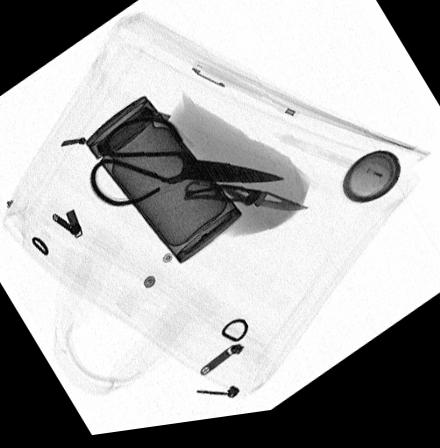Knife: (183, 185, 310, 218)
Scissors: (88, 120, 284, 210)
